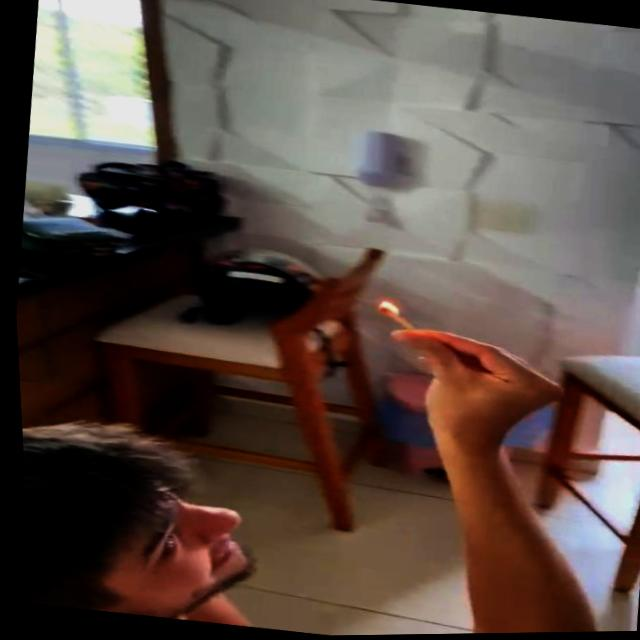Fire: (370, 294, 398, 321)
